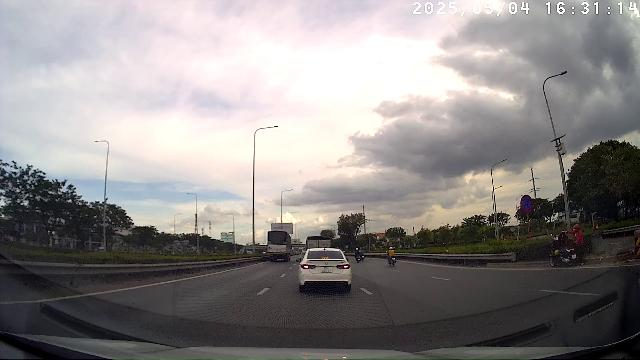130-cam-dung-va-do-xe: (520, 194, 534, 213)
